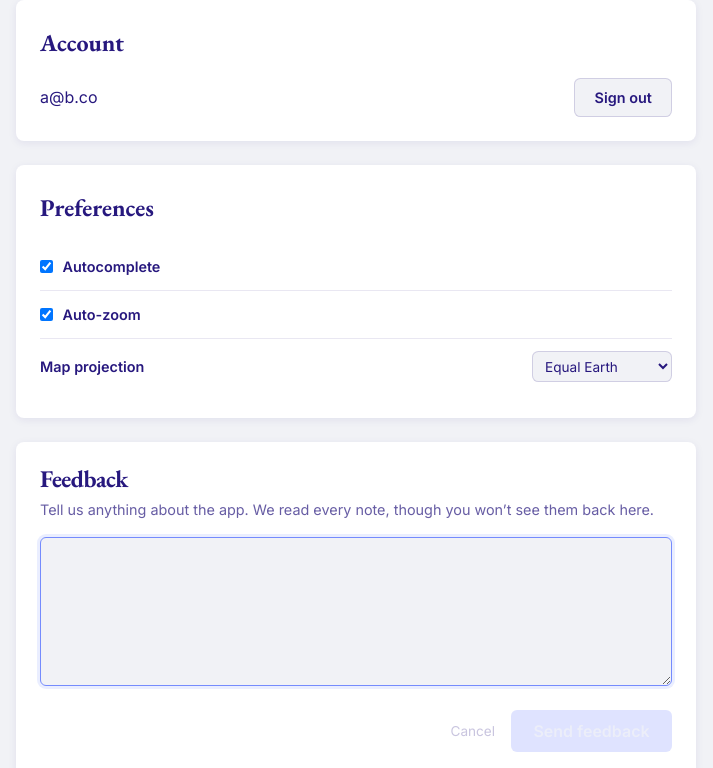
Test: Settings feedback section (#236) › sends feedback end to end from Settings, with the same confirmation
Type "the map is lovely" into the text box named "your feedback" at [356, 612], box [40, 537, 672, 686]
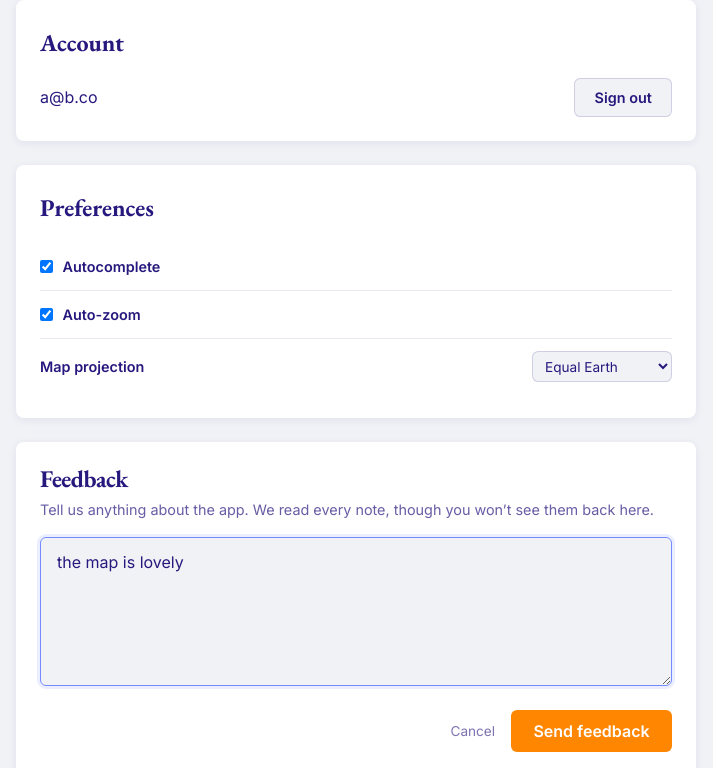
Click the button "Send feedback" at [592, 731], box [511, 710, 672, 752]
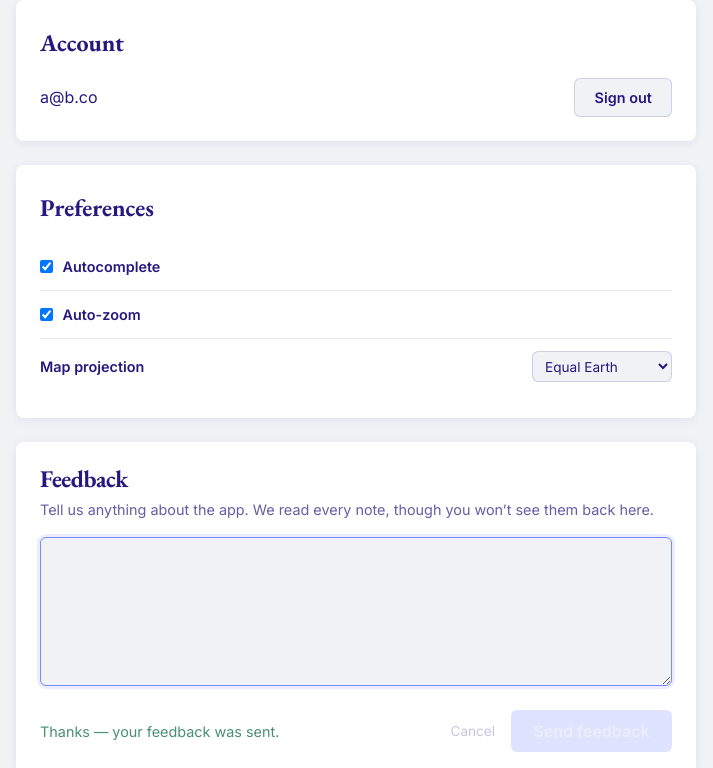
Now the text "Thanks — your feedback was sent." is shown, box [40, 720, 279, 743]
